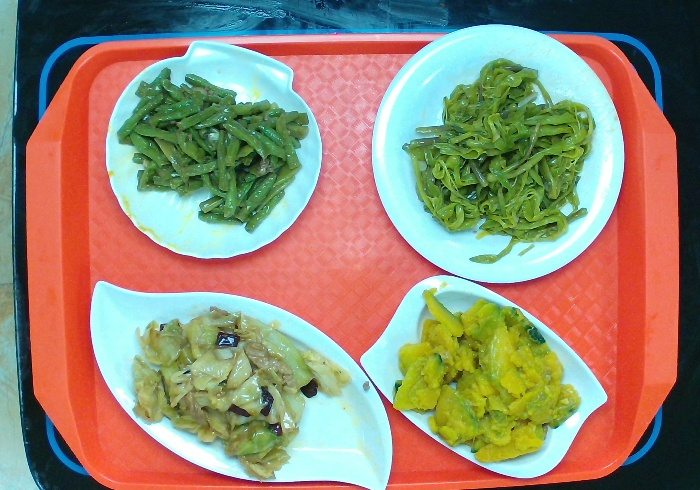RJxy-Bei_Ke_Wan: (100, 37, 327, 267)
RJxy-Jian_Jiao_Fang_Die: (360, 266, 615, 481)
RJxy-Jian_Jiao_Pan: (82, 275, 400, 487)
RJxy-Yuan_Pan: (362, 19, 629, 288)
